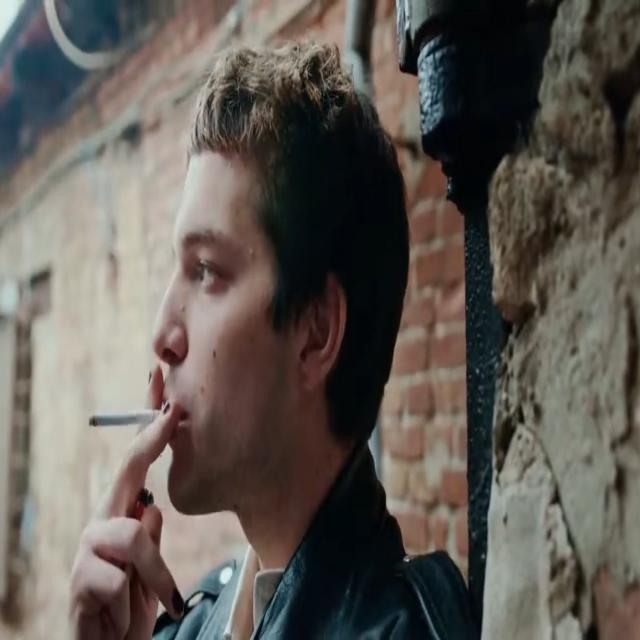Курение: (85, 404, 172, 432)
